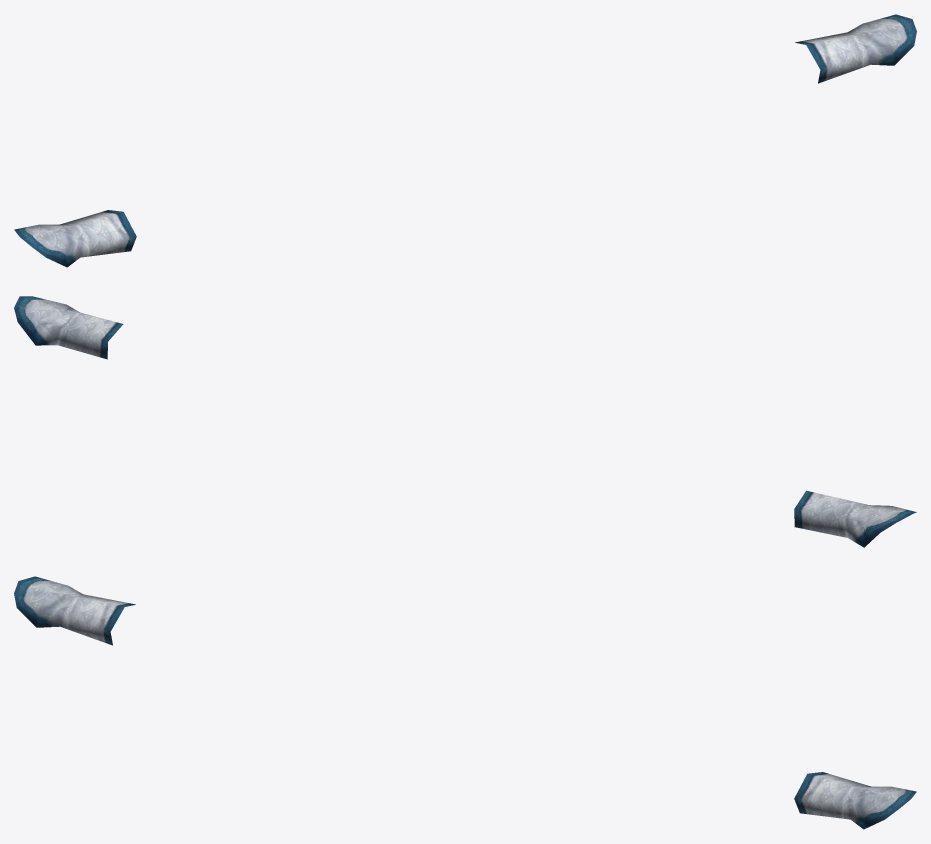
3 renders of one model, top to bottom at view 1: azimuth 30°, elevation 25°; view 2: azimuth 150°, elevation 25°; view 3: azimuth 330°, elevation 25°, orthographic.
Visible parts, largest first — view 1: clothes_01_aa; view 2: clothes_01_aa; view 3: clothes_01_aa.
Boxes of the visible parts, box(x1,y1,x2,y2) form: clothes_01_aa: box(14, 14, 916, 267); clothes_01_aa: box(14, 296, 916, 547); clothes_01_aa: box(14, 576, 916, 829).
Bounding box in the file's own units: 1.33 × 0.0536 × 0.0819.
1 material, 1 textured.
